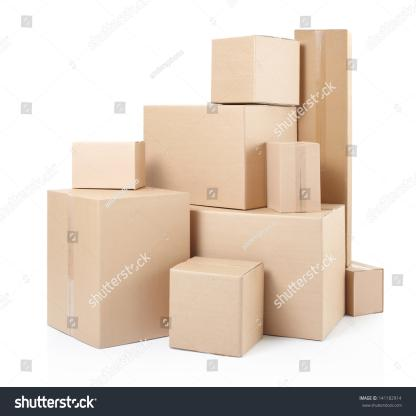box: (194, 216, 322, 340), (144, 104, 244, 209), (293, 29, 347, 208), (46, 191, 100, 350), (170, 269, 243, 357), (70, 142, 135, 191), (211, 35, 256, 103), (281, 144, 320, 212), (353, 268, 384, 319)
